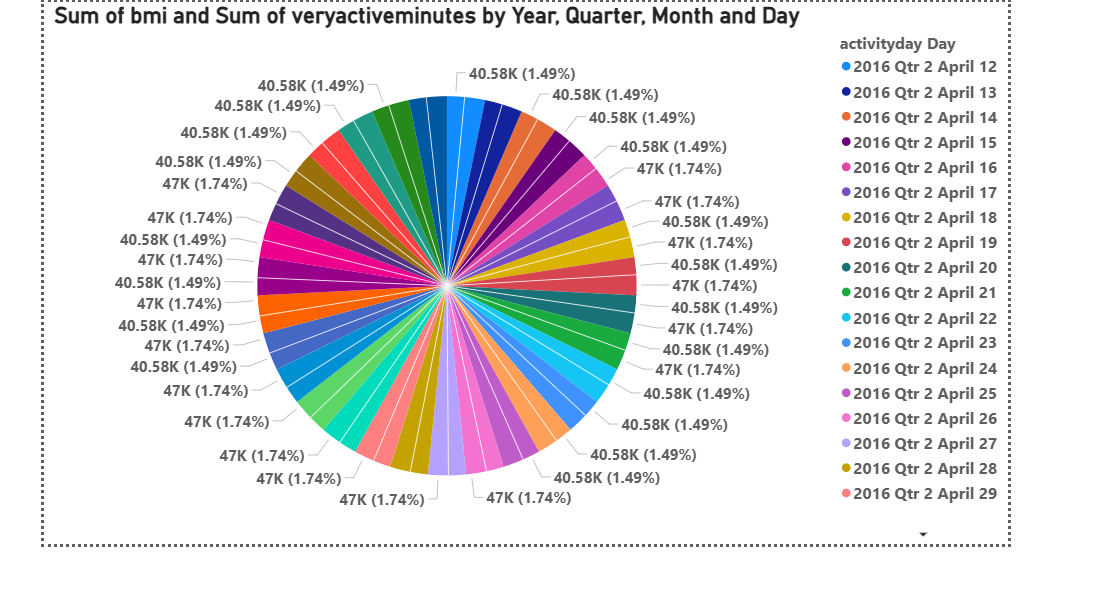

Layout of this report page (visuals, bound fields, positions):
{"tool":"powerbi","page":{"name":"Page 4","canvas":[1280,720],"ordinal":3},"visuals":[{"type":"pieChart","fields":{"Category":["public merged_table.activityday.Variation.Date Hierarchy.Year","public merged_table.activityday.Variation.Date Hierarchy.Quarter","public merged_table.activityday.Variation.Date Hierarchy.Month","public merged_table.activityday.Variation.Date Hierarchy.Day"],"Y":["Sum(public merged_table.bmi)","Sum(public merged_table.veryactiveminutes)"]},"box":[8.7,0,1271.7,719.6],"z":0}]}

Visuals, with their boxes in screenshot pixels (x1, y1, x2, y2), scaled from the page's 1280x720 canvas onto the 1094x604 screenshot:
pieChart - public merged_table.activityday.Variation.Date Hierarchy.Year x public merged_table.activityday.Variation.Date Hierarchy.Quarter: locate(7, 0, 1093, 603)
